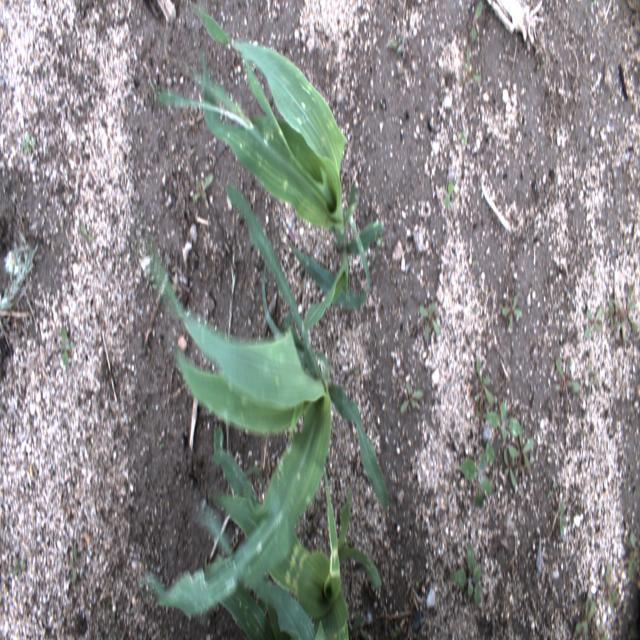crop: (140, 181, 389, 618), (158, 4, 382, 332), (201, 428, 383, 640)
weed: (483, 401, 532, 494), (460, 439, 495, 513), (1, 242, 32, 317), (605, 286, 637, 346), (454, 541, 482, 602), (469, 359, 496, 406), (554, 355, 582, 396), (418, 300, 440, 346), (396, 378, 424, 413), (571, 599, 596, 637), (502, 292, 522, 330), (58, 320, 73, 368), (463, 44, 481, 82), (584, 306, 602, 341), (602, 568, 616, 613), (385, 32, 410, 57), (628, 526, 638, 578), (469, 3, 483, 40), (194, 177, 212, 203), (12, 552, 27, 580), (20, 134, 38, 157), (69, 546, 79, 584), (443, 182, 455, 213), (77, 223, 92, 244), (546, 481, 560, 502), (537, 51, 551, 72), (556, 503, 565, 535), (587, 364, 598, 389), (482, 329, 496, 347), (438, 88, 448, 112), (456, 130, 466, 149)
